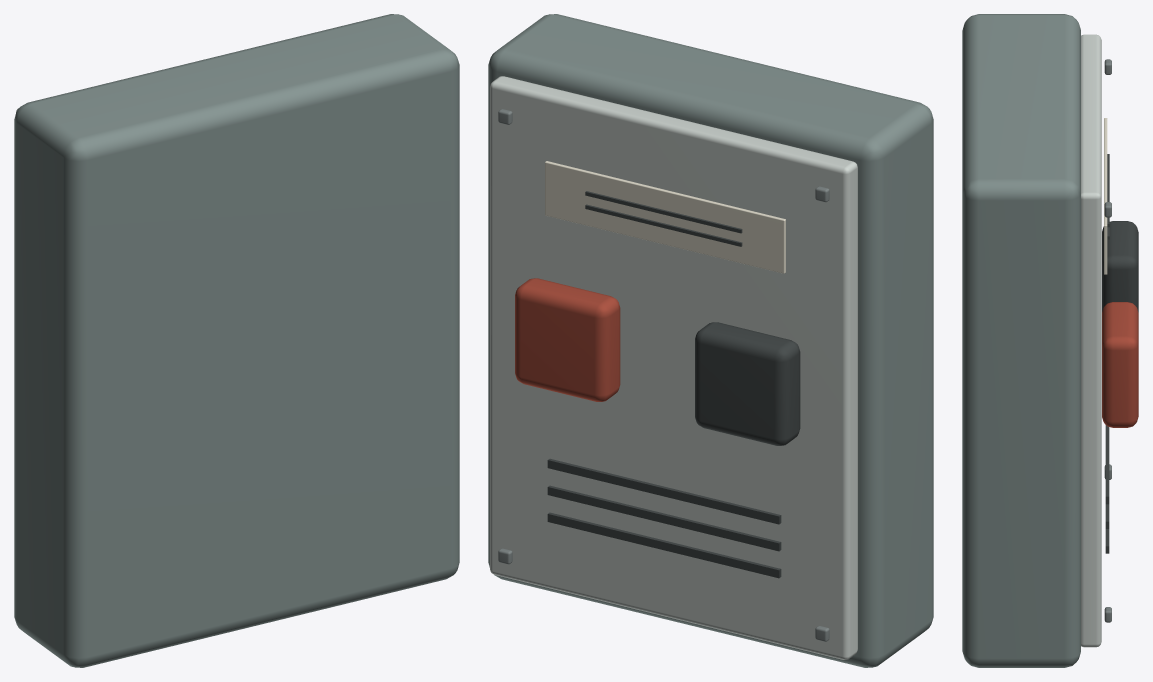
Rendered from StationAlarmPanel.fbx.
3 views of the same model, side by side, from view 1: azimuth 30°, elevation 25°; view 2: azimuth 150°, elevation 25°; view 3: azimuth 270°, elevation 25° (orthographic). The views are drawn at different scales.
Visible parts, largest first — view 1: StationAlarmPanel_Paint; view 2: StationAlarmPanel_Ceramic, StationAlarmPanel_Paint, StationAlarmPanel_Ink, StationAlarmPanel_Paper, StationAlarmPanel_Red, StationAlarmPanel_Steel; view 3: StationAlarmPanel_Paint, StationAlarmPanel_Ceramic, StationAlarmPanel_Red, StationAlarmPanel_Ink, StationAlarmPanel_Paper, StationAlarmPanel_Steel.
Boxes of the visible parts, x1,y1,x2,y2 form: StationAlarmPanel_Paint: (14,14,459,667); StationAlarmPanel_Ceramic: (490,76,857,659); StationAlarmPanel_Paint: (488,14,933,667); StationAlarmPanel_Ink: (547,191,800,578); StationAlarmPanel_Paper: (545,161,785,273); StationAlarmPanel_Red: (515,278,620,401); StationAlarmPanel_Steel: (498,109,829,641); StationAlarmPanel_Paint: (962,14,1080,667); StationAlarmPanel_Ceramic: (1081,34,1101,647); StationAlarmPanel_Red: (1102,302,1138,427); StationAlarmPanel_Ink: (1102,154,1138,553); StationAlarmPanel_Paper: (1104,118,1107,274); StationAlarmPanel_Steel: (1104,59,1111,622).
Size of the model in its own units: 46 by 59 by 19.3.
